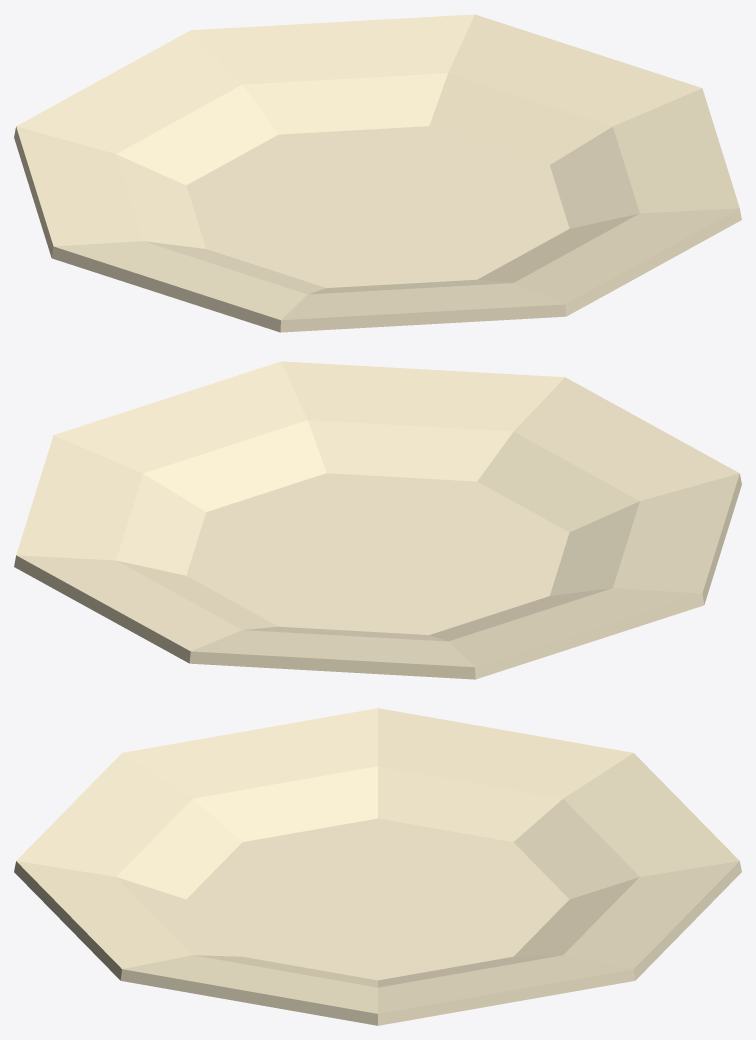
The model's file is plate.obj.
3 renders of one model, top to bottom at view 1: azimuth 30°, elevation 25°; view 2: azimuth 150°, elevation 25°; view 3: azimuth 270°, elevation 25°, orthographic. The views are drawn at different scales.
Visible parts, largest first — view 1: Cylinder.107_Cylinder.125_other_1; view 2: Cylinder.107_Cylinder.125_other_1; view 3: Cylinder.107_Cylinder.125_other_1.
Boxes of the visible parts, x1=… form: Cylinder.107_Cylinder.125_other_1: x1=14, y1=14, x2=741, y2=332; Cylinder.107_Cylinder.125_other_1: x1=14, y1=361, x2=741, y2=679; Cylinder.107_Cylinder.125_other_1: x1=14, y1=708, x2=741, y2=1025.
Bounding box in the file's own units: 0.0405 × 0.00303 × 0.0405.
